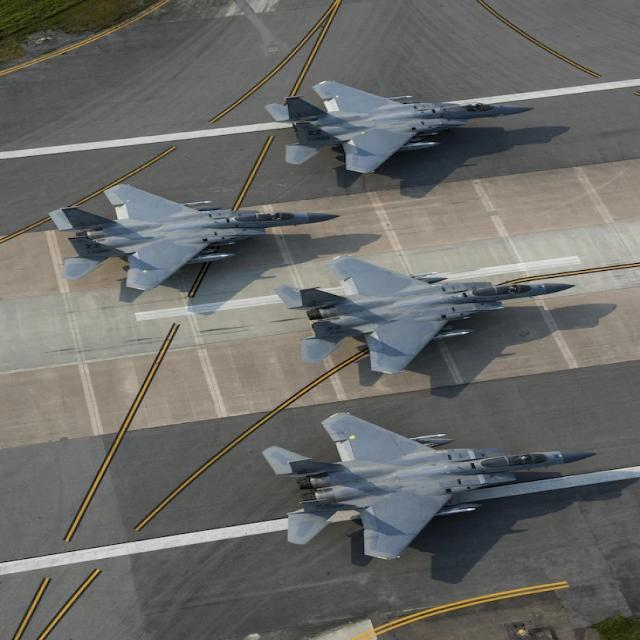MIL_Plane: (260, 412, 598, 560), (273, 254, 576, 374), (46, 183, 342, 292), (263, 80, 536, 174)
